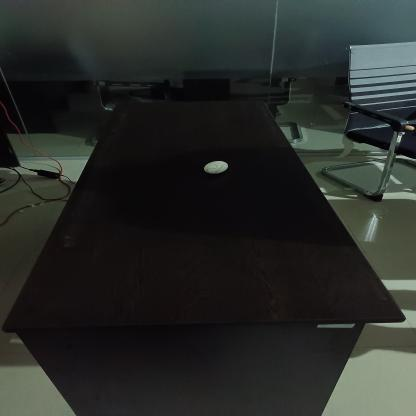egg: (198, 160, 230, 174)
